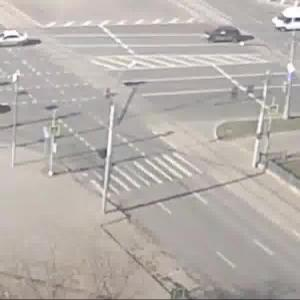car: (202, 26, 248, 44), (269, 8, 300, 30), (1, 31, 37, 48)
